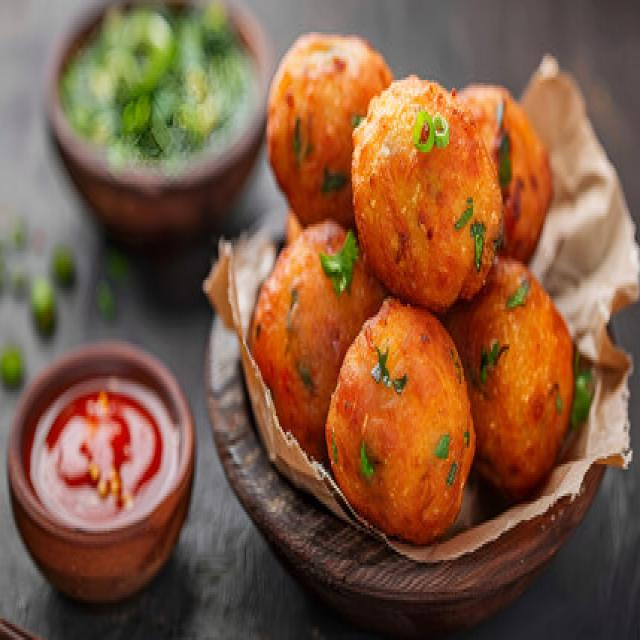BONDA: (252, 24, 578, 543)
SAUCE: (21, 373, 184, 534)
